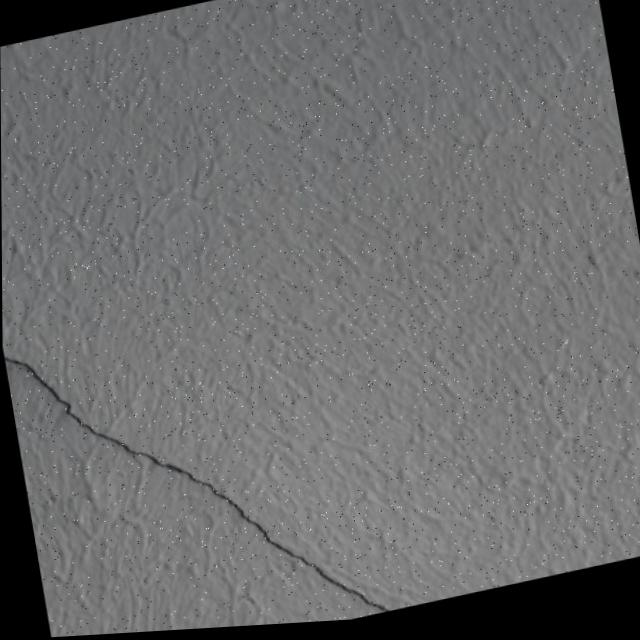Crack: (2, 267, 390, 640)
